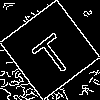T: (24, 24, 77, 80)
